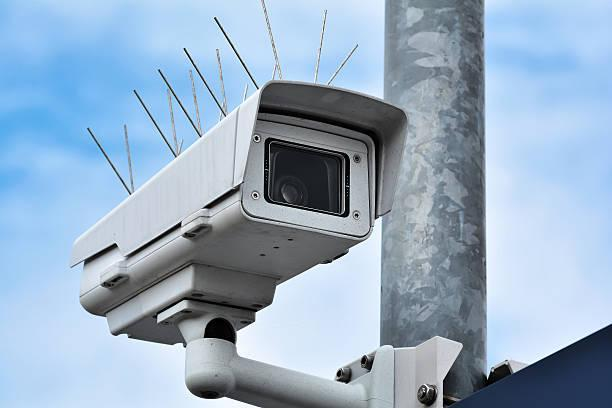camera: (33, 0, 435, 369)
